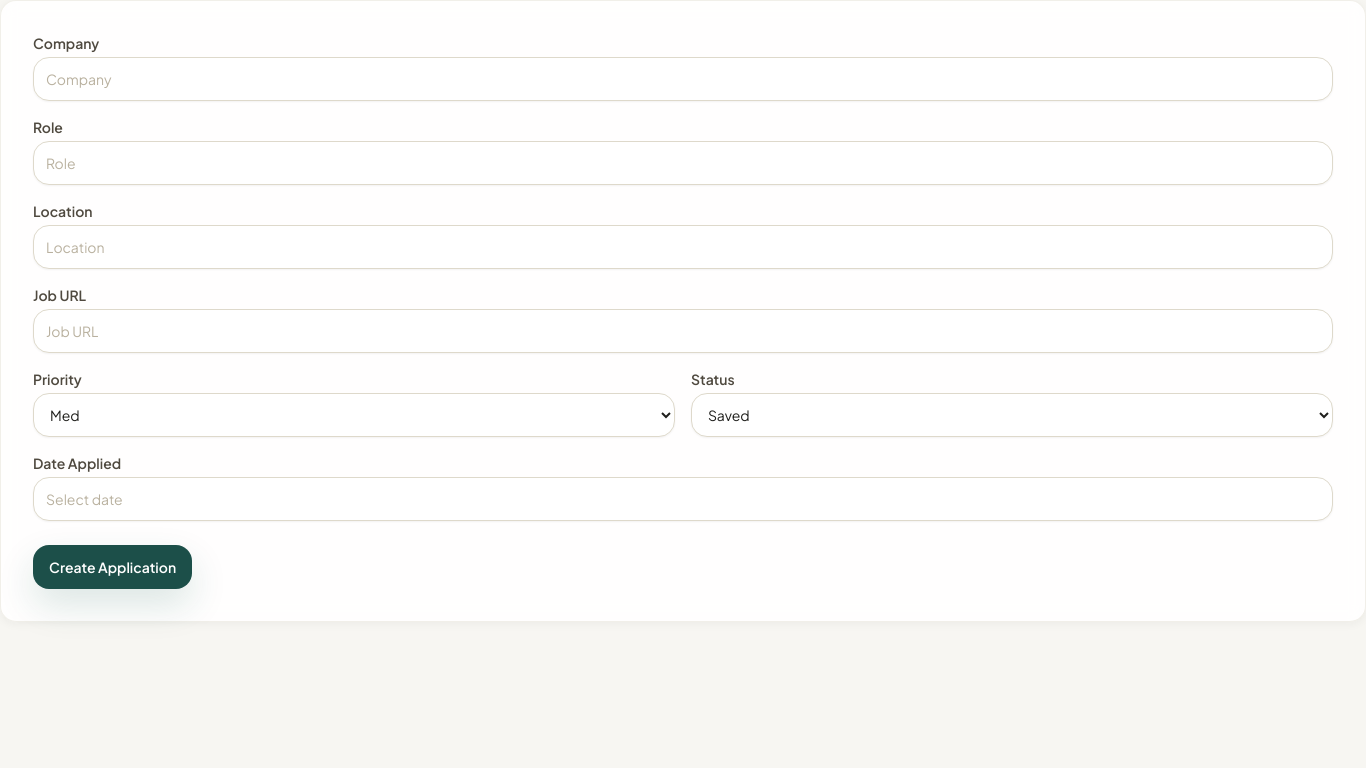
it: NewApplication › shows the server's error next to the field it belongs to
Type "Acme" into the field with placeholder "Company".
click(683, 79); type("Acme")  # box [33, 57, 1333, 101]
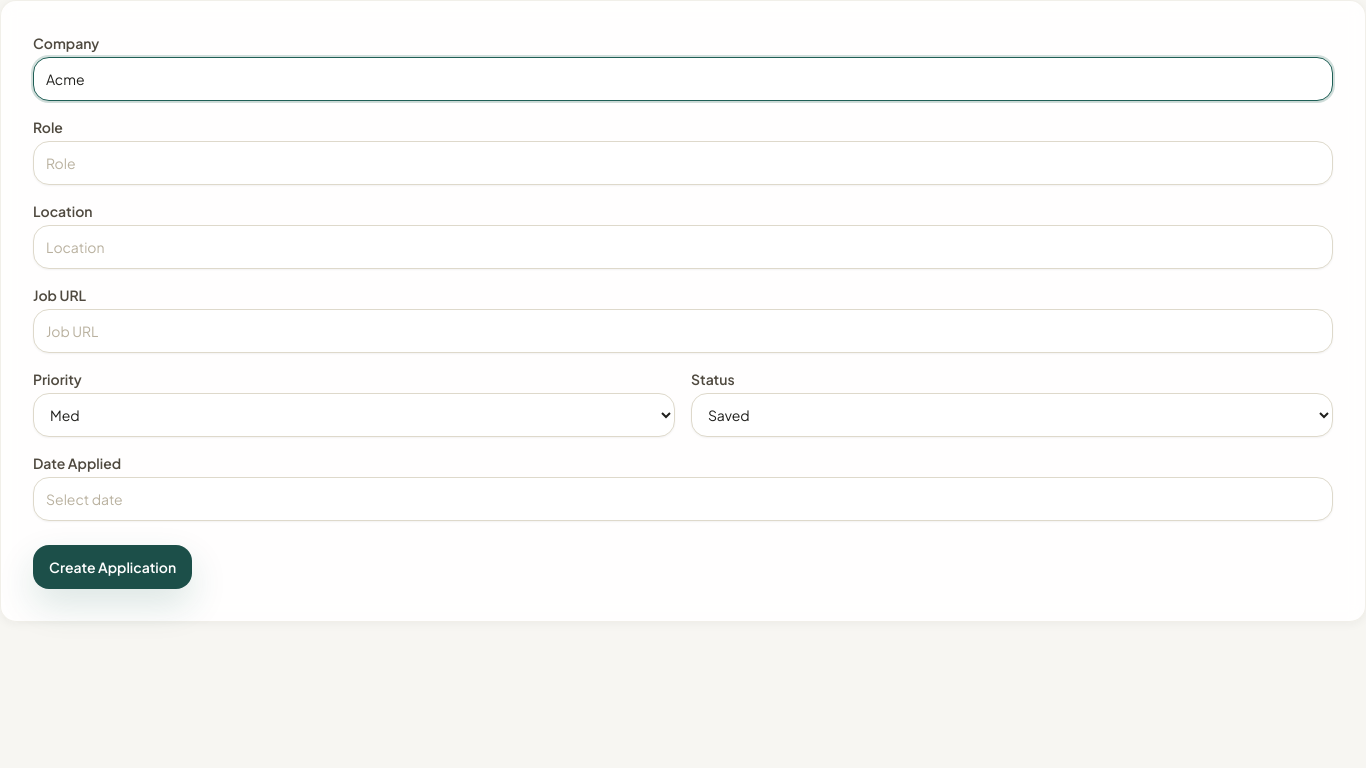
Type "Engineer" into the field with placeholder "Role".
click(683, 163); type("Engineer")  # box [33, 141, 1333, 185]
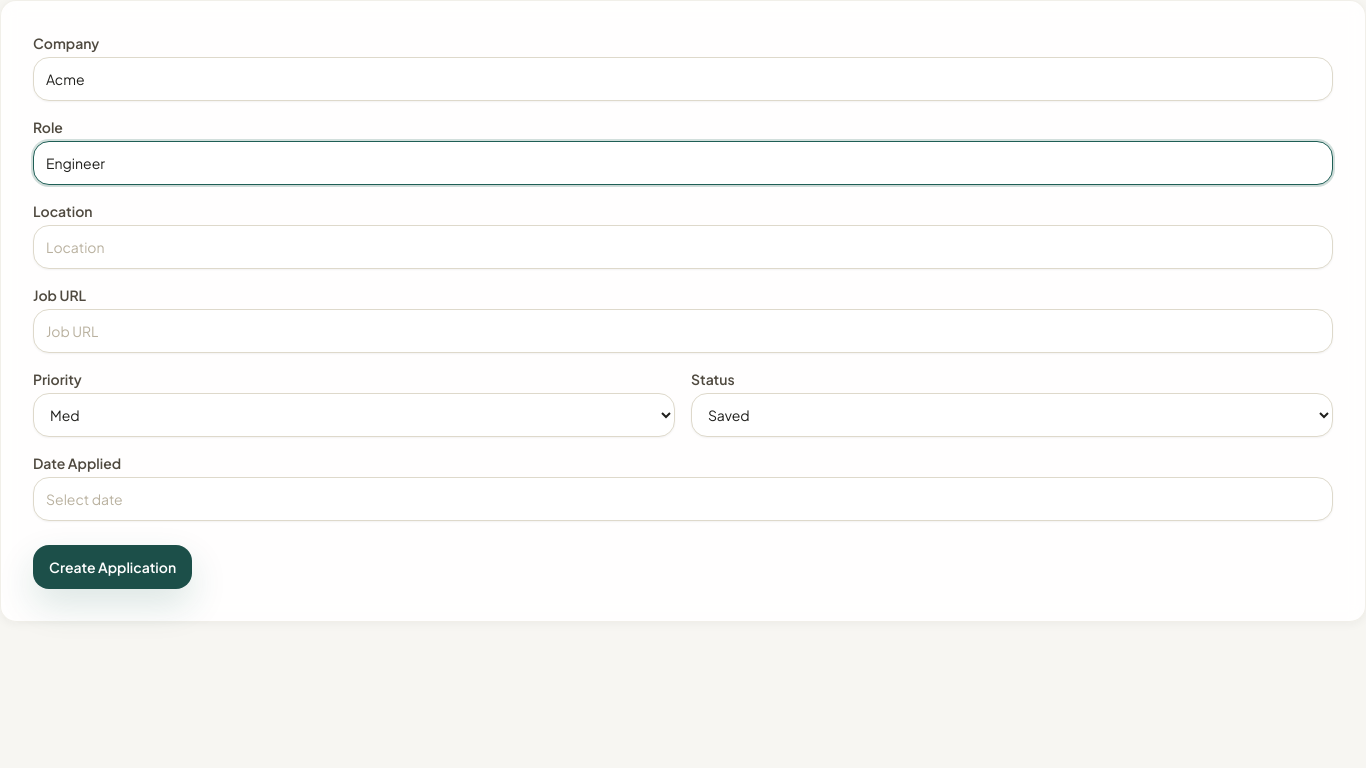
Type "javascript:alert(1)" into the field with placeholder "Job URL".
click(683, 331); type("javascript:alert(1)")  # box [33, 309, 1333, 353]
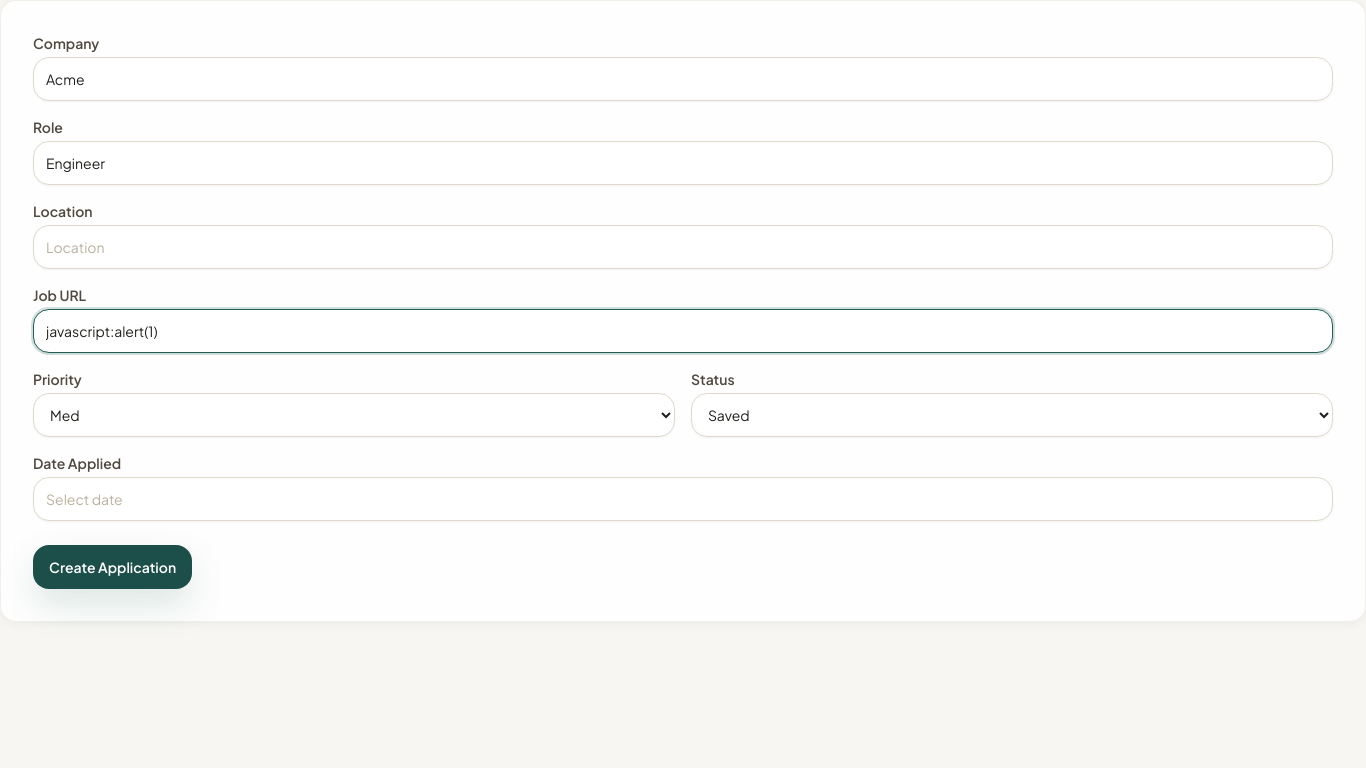
Submit the form
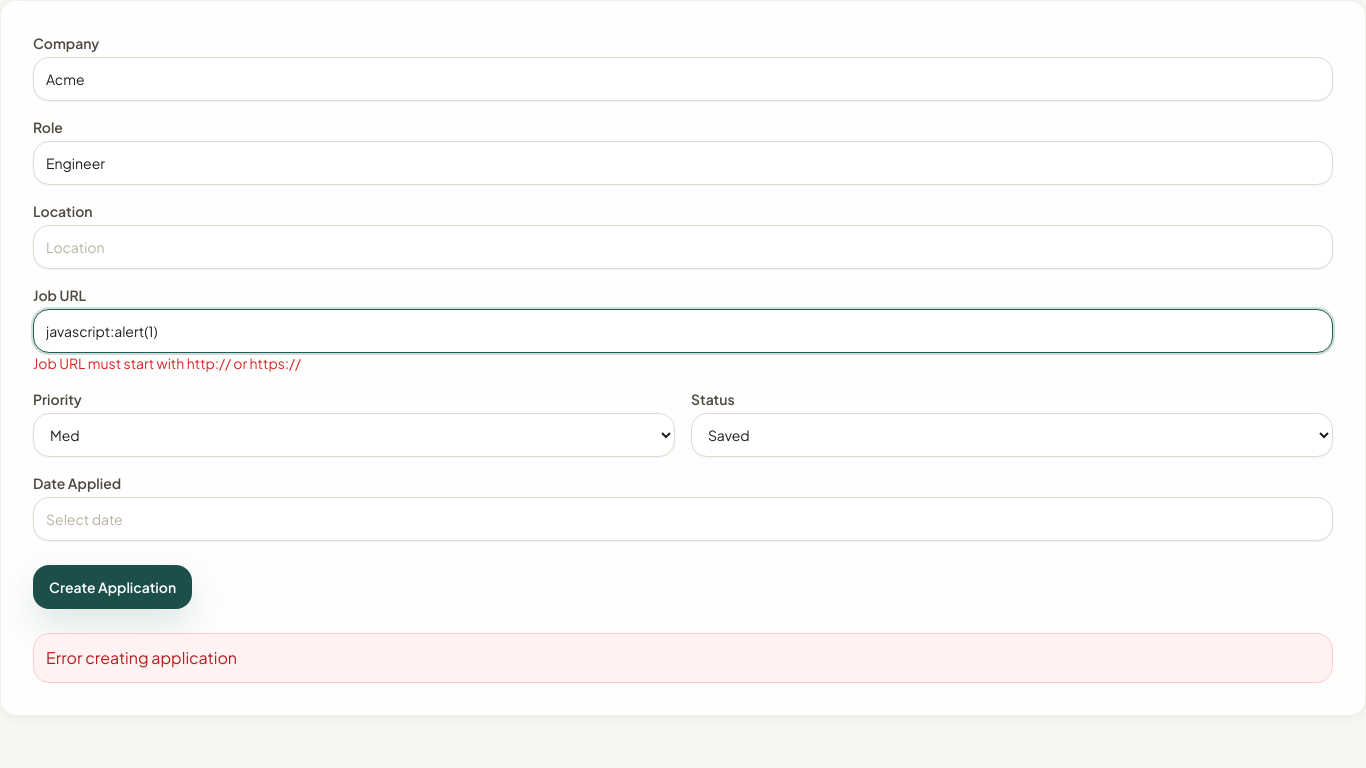
Expected: the text "Job URL must start with http:// or https://" is shown, [33, 354, 301, 372]
